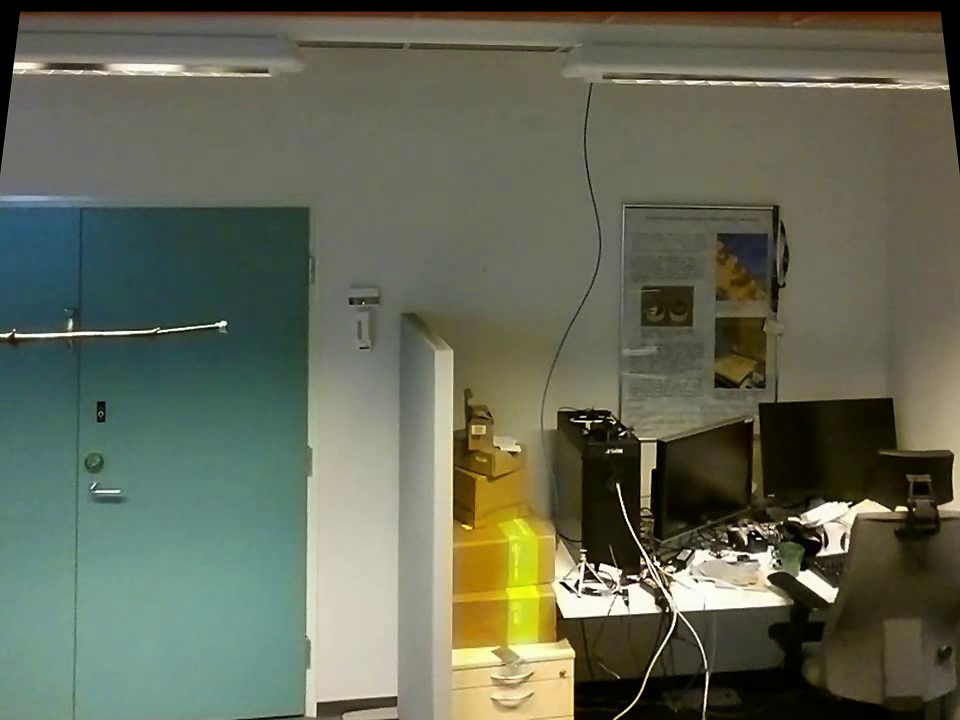branch: (0, 313, 210, 350)
